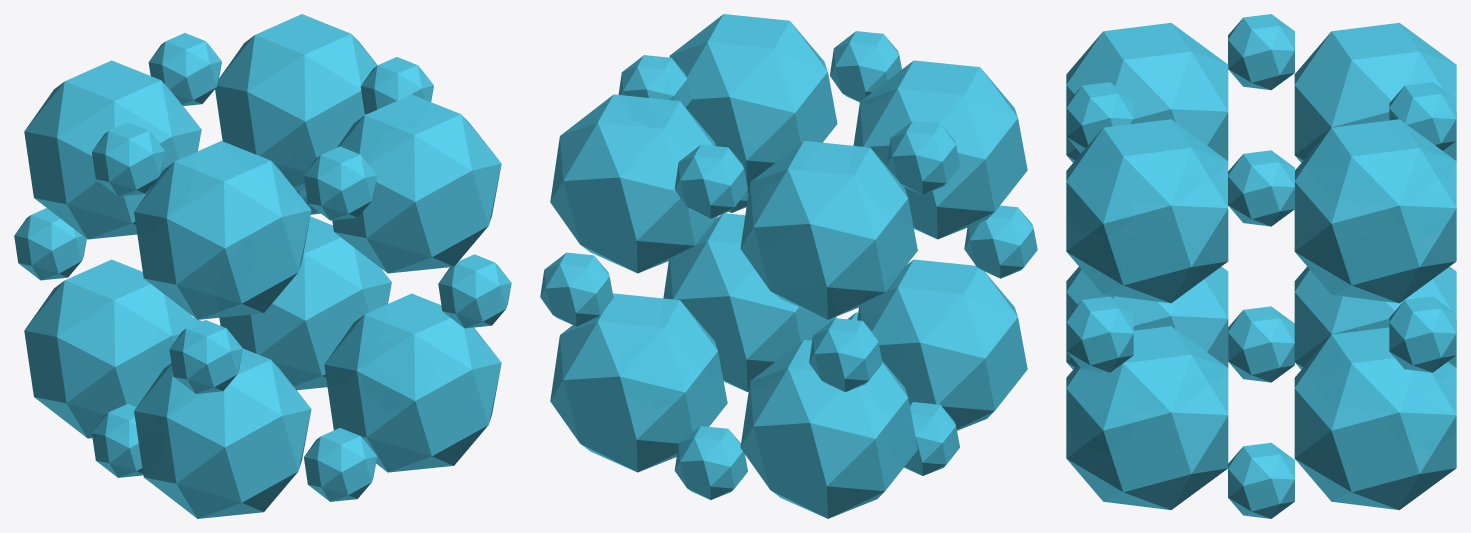
The model's file is fractalsnubcube3-1.glb.
3 renders of one model, left to right at view 1: azimuth 30°, elevation 25°; view 2: azimuth 150°, elevation 25°; view 3: azimuth 270°, elevation 25°, orthographic. The views are drawn at different scales.
Size of the model in its own units: 7.22 by 7.22 by 7.22.
